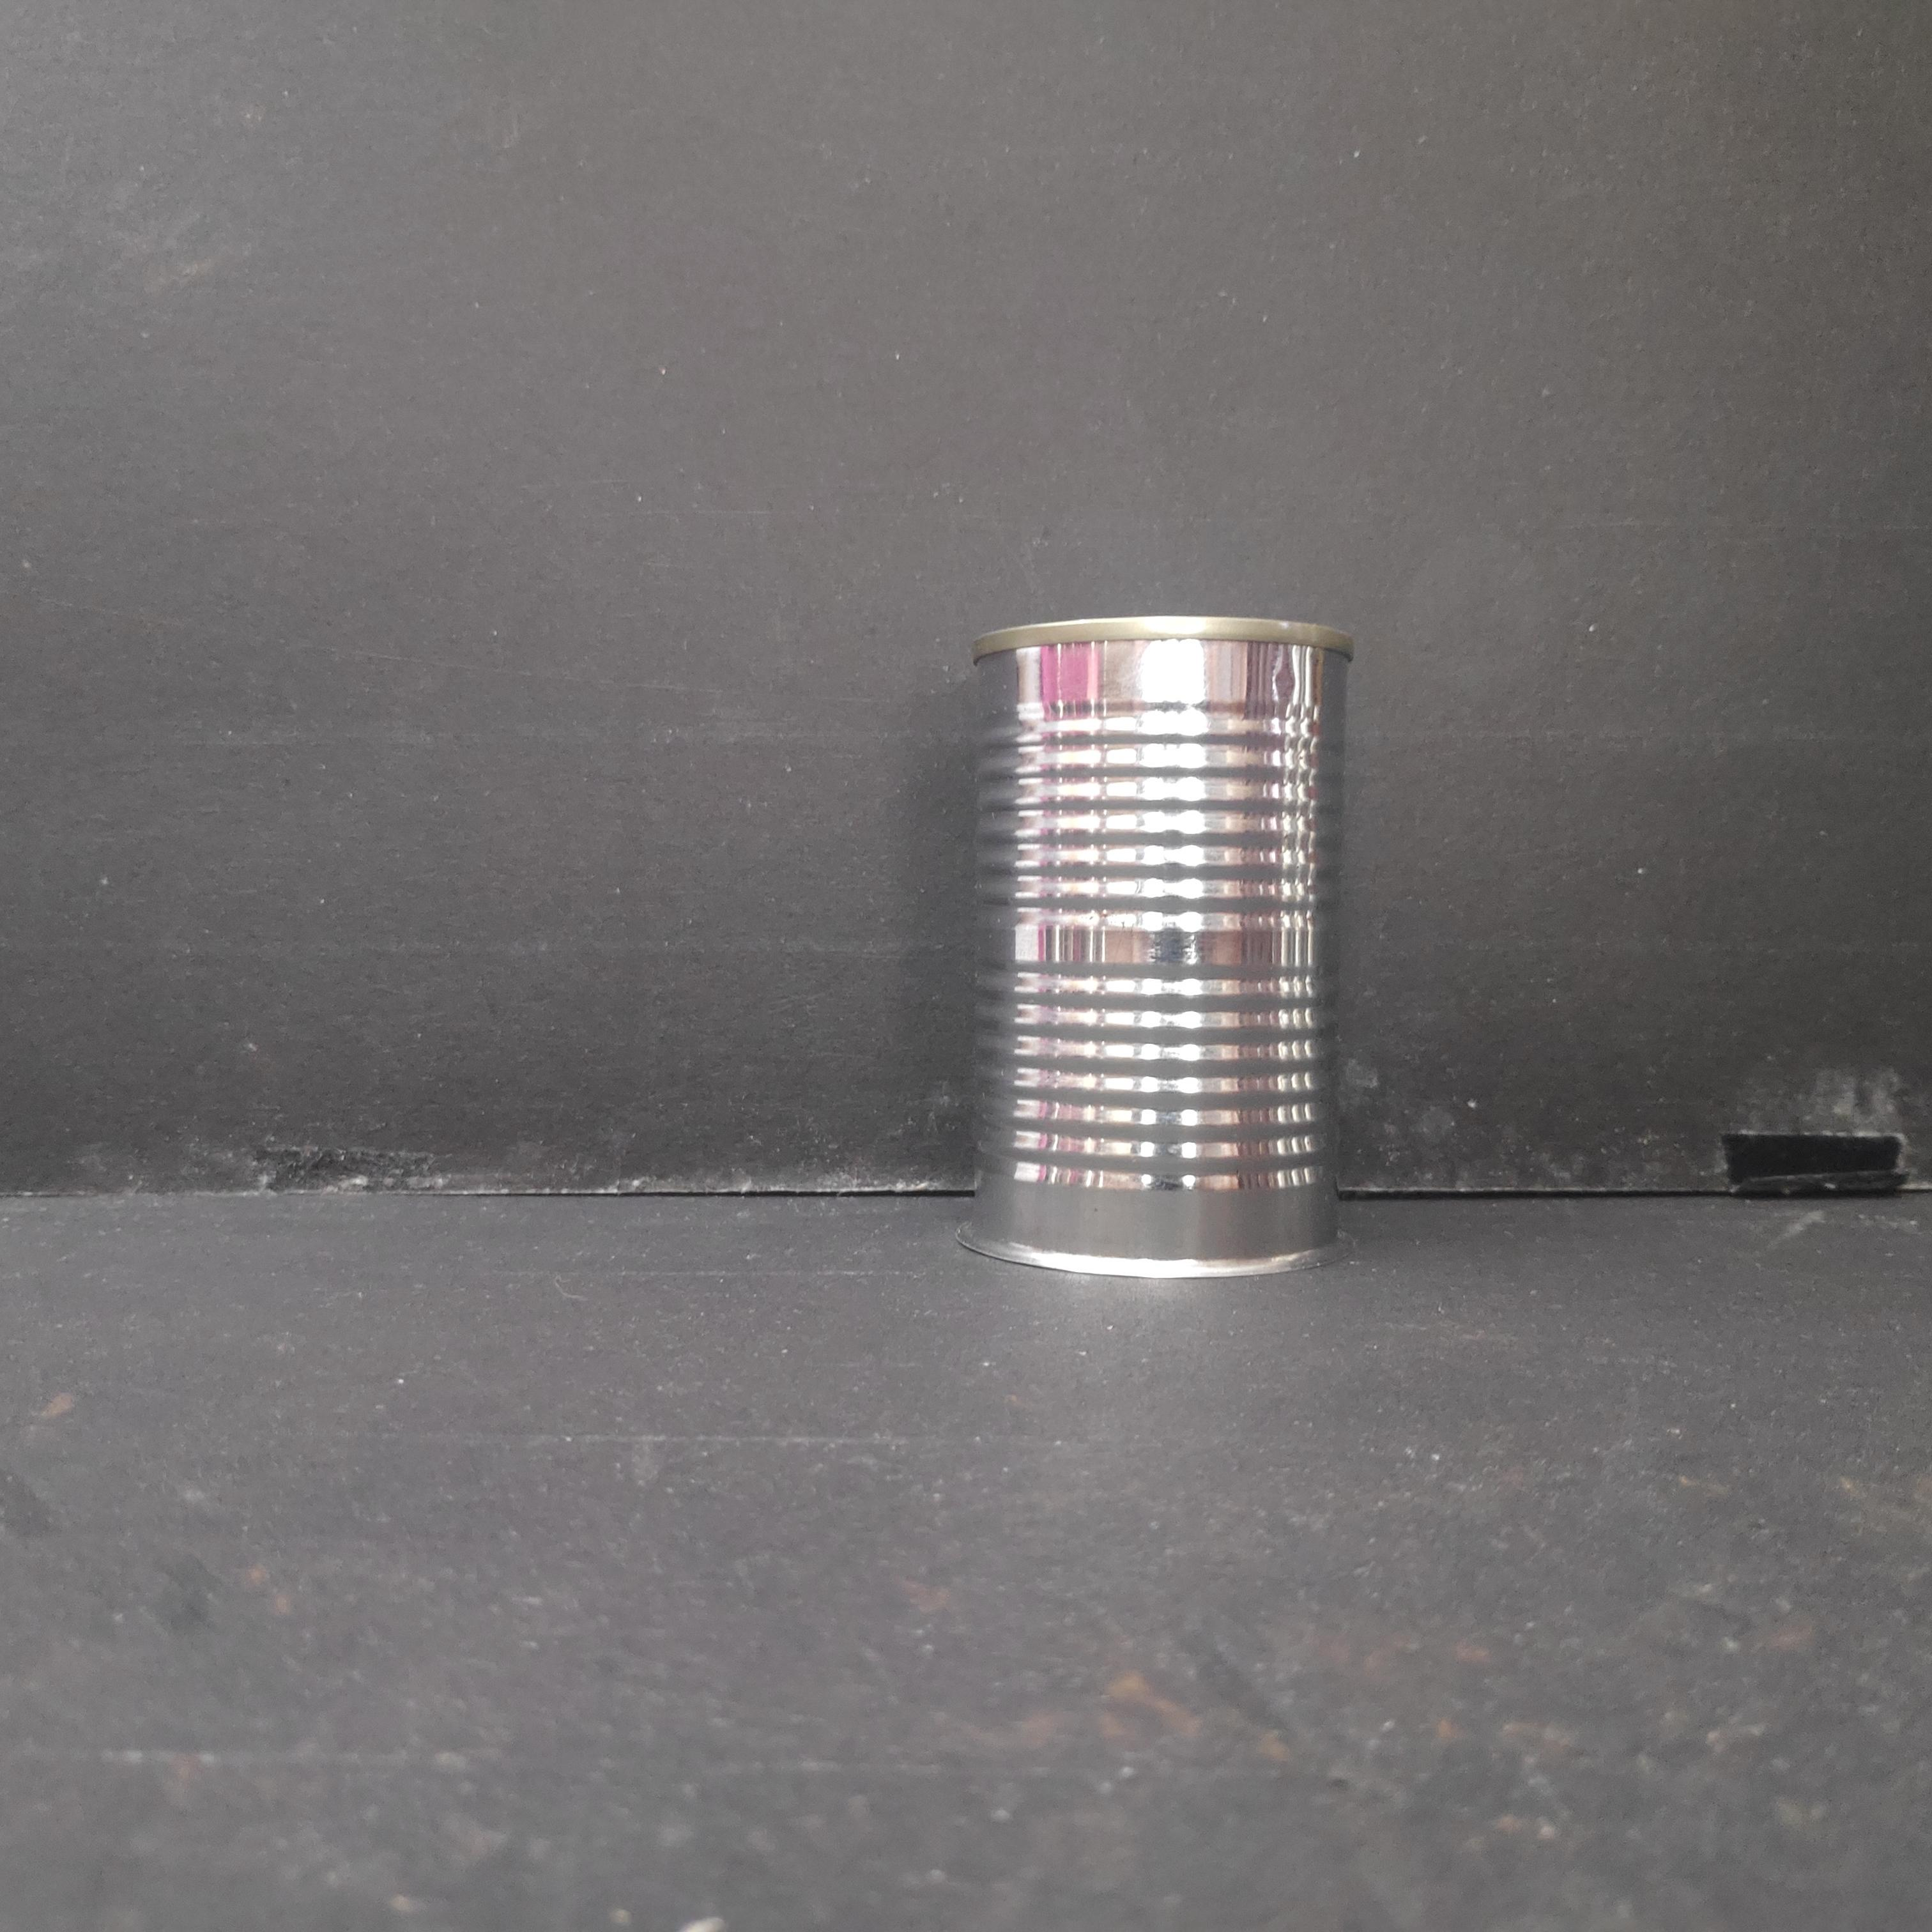No defect: (951, 614, 1361, 1280)
